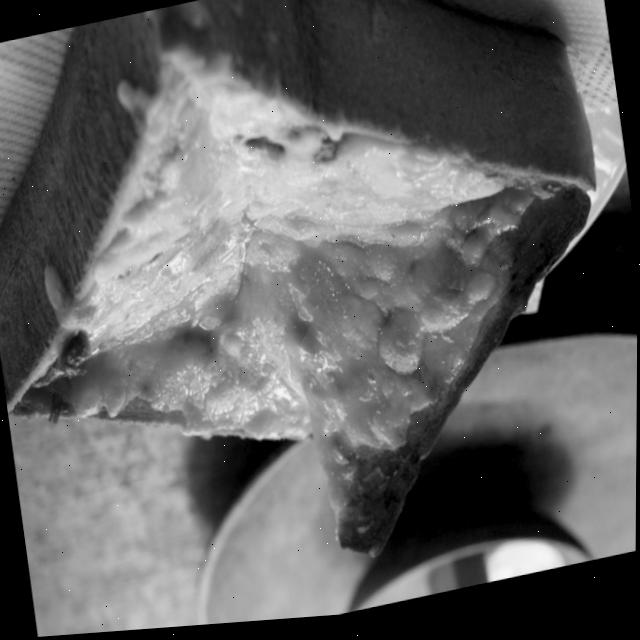面包点心: (0, 0, 633, 531)
